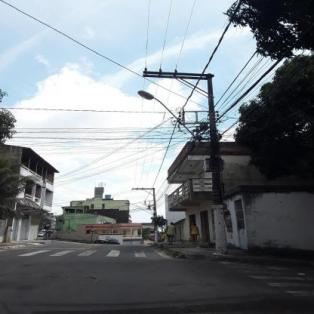Poste: (194, 70, 232, 253)
